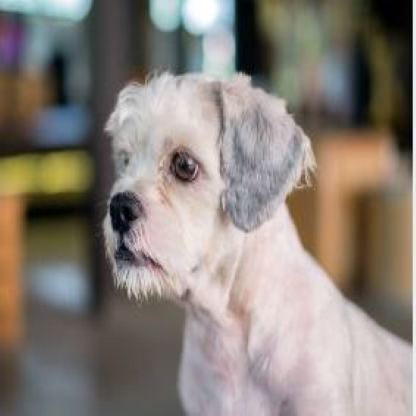maltese: (90, 66, 413, 414)
